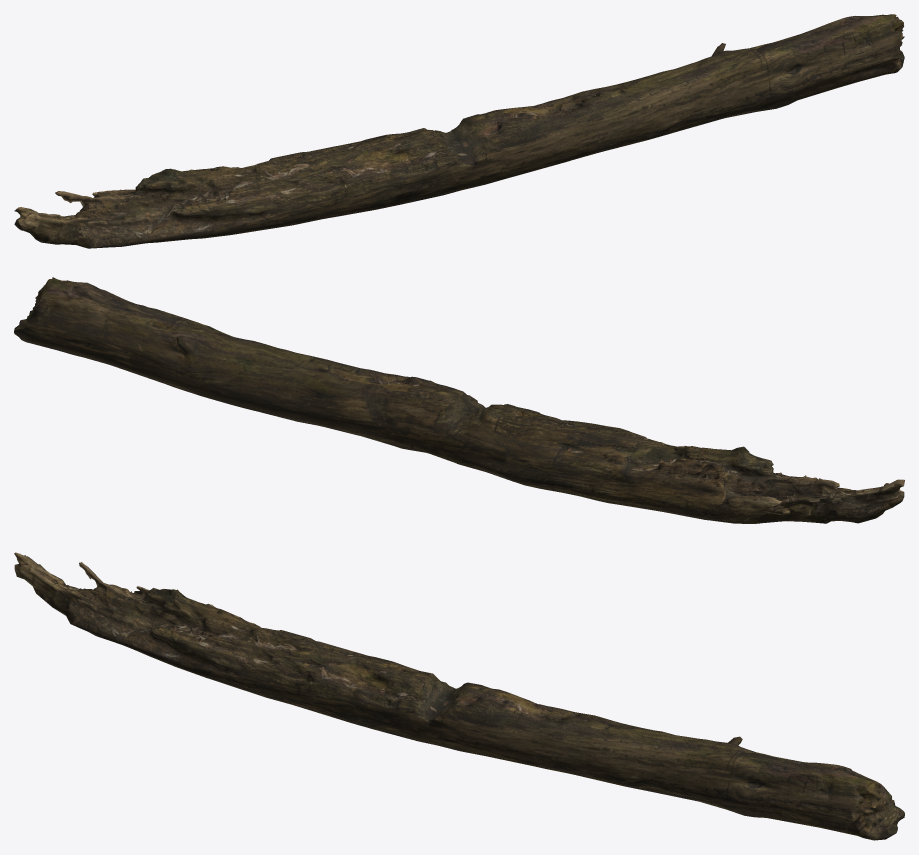
Rendered from dead_tree_trunk.gltf.
The picture shows the model from 3 angles, top to bottom: view 1: azimuth 30°, elevation 25°; view 2: azimuth 150°, elevation 25°; view 3: azimuth 330°, elevation 25°; orthographic projection.
Visible parts, largest first — view 1: dead_tree_trunk; view 2: dead_tree_trunk; view 3: dead_tree_trunk.
Part boxes in pixels (x1=…): dead_tree_trunk: x1=14, y1=14, x2=904, y2=248; dead_tree_trunk: x1=14, y1=277, x2=904, y2=523; dead_tree_trunk: x1=14, y1=552, x2=904, y2=840.
Bounding box in the file's own units: 3.05 × 0.2898 × 0.2774.
Materials: 1 (1 with a texture image).
